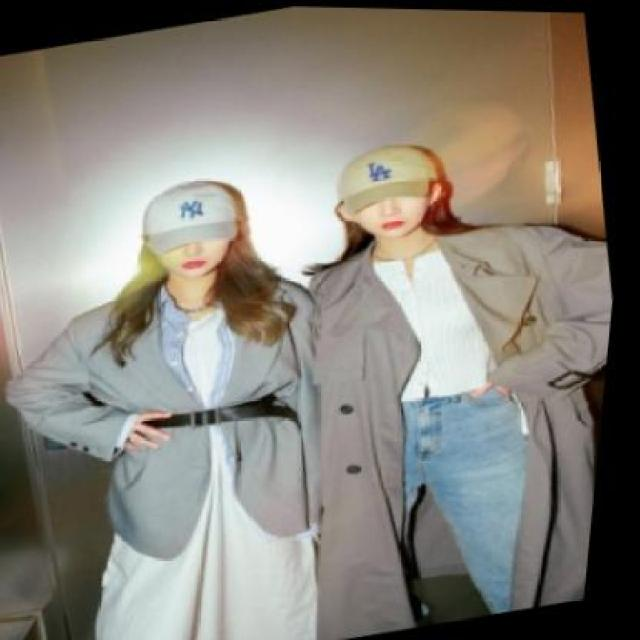hat: (133, 169, 256, 256), (332, 132, 450, 212)
